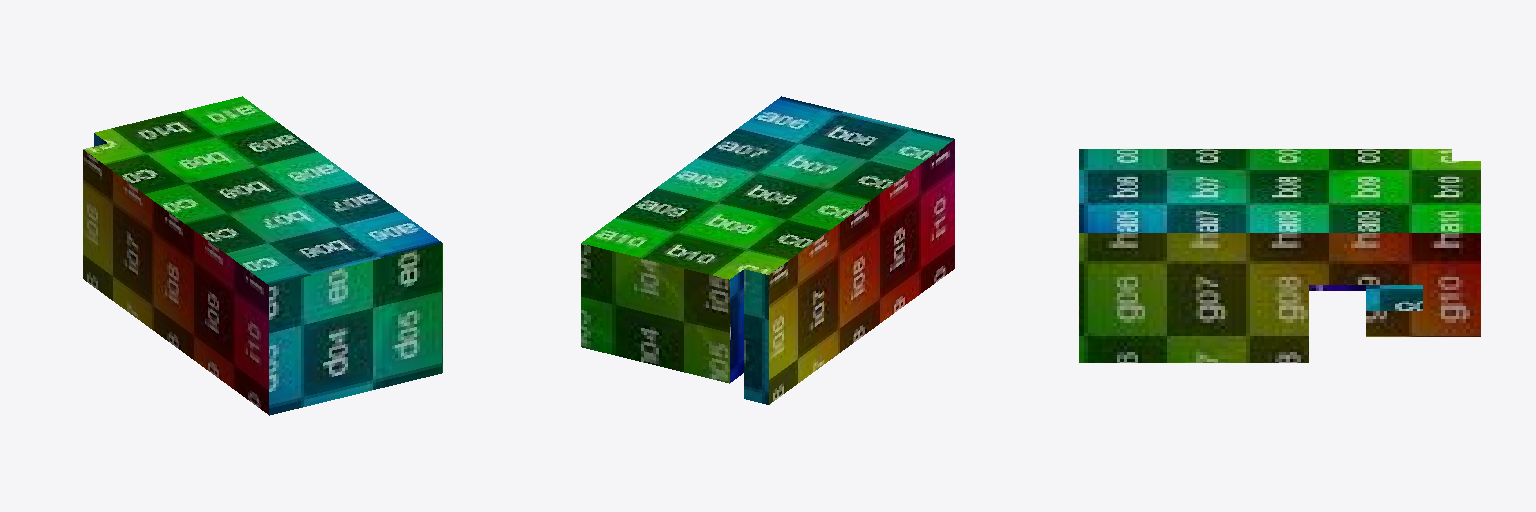
3 renders of one model, left to right at view 1: azimuth 30°, elevation 25°; view 2: azimuth 150°, elevation 25°; view 3: azimuth 270°, elevation 25°, orthographic.
Parts seen in each view (by area): view 1: grobeGD; view 2: grobeGD; view 3: grobeGD.
Boxes of the visible parts, x1=… form: grobeGD: x1=83, y1=96, x2=442, y2=415; grobeGD: x1=581, y1=96, x2=954, y2=404; grobeGD: x1=1079, y1=149, x2=1480, y2=362.
Size of the model in its own units: 0.7 by 0.5 by 1.4.
Materials: 1 (1 with a texture image).